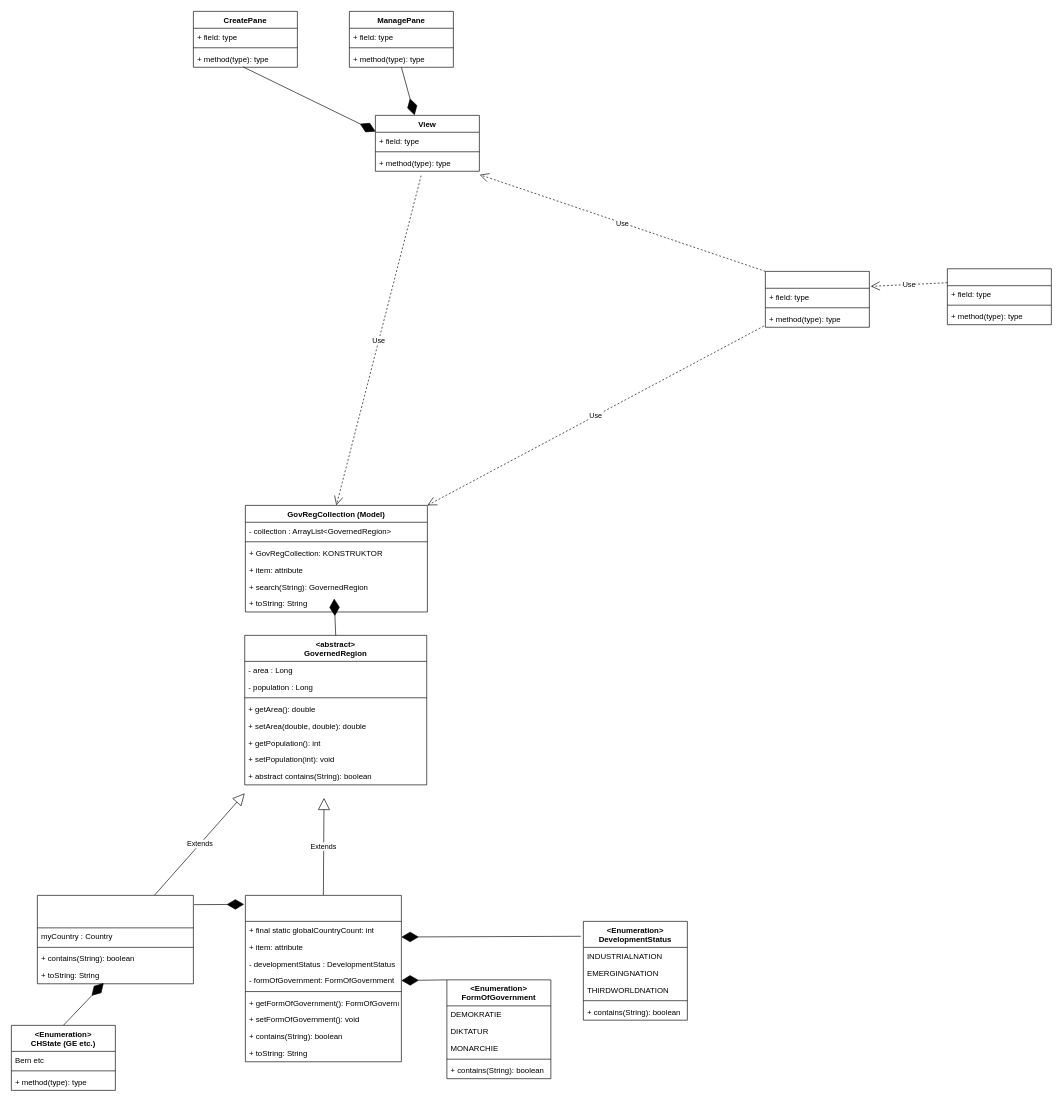
The diagram is 1063 pixels wide and 1104 high, and some of its shapes have lost their labels. The shapes that lost their labels are listed below. From the top down, each one's box as (x1, y1, x2, y2) in pixels, then its label:
(765, 271, 869, 327): Controller
(947, 268, 1051, 325): MAIN
(37, 895, 193, 984): class State
(245, 895, 401, 1062): class Country
